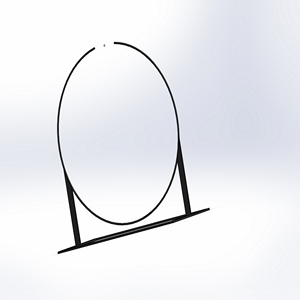circle: (49, 38, 213, 255)
